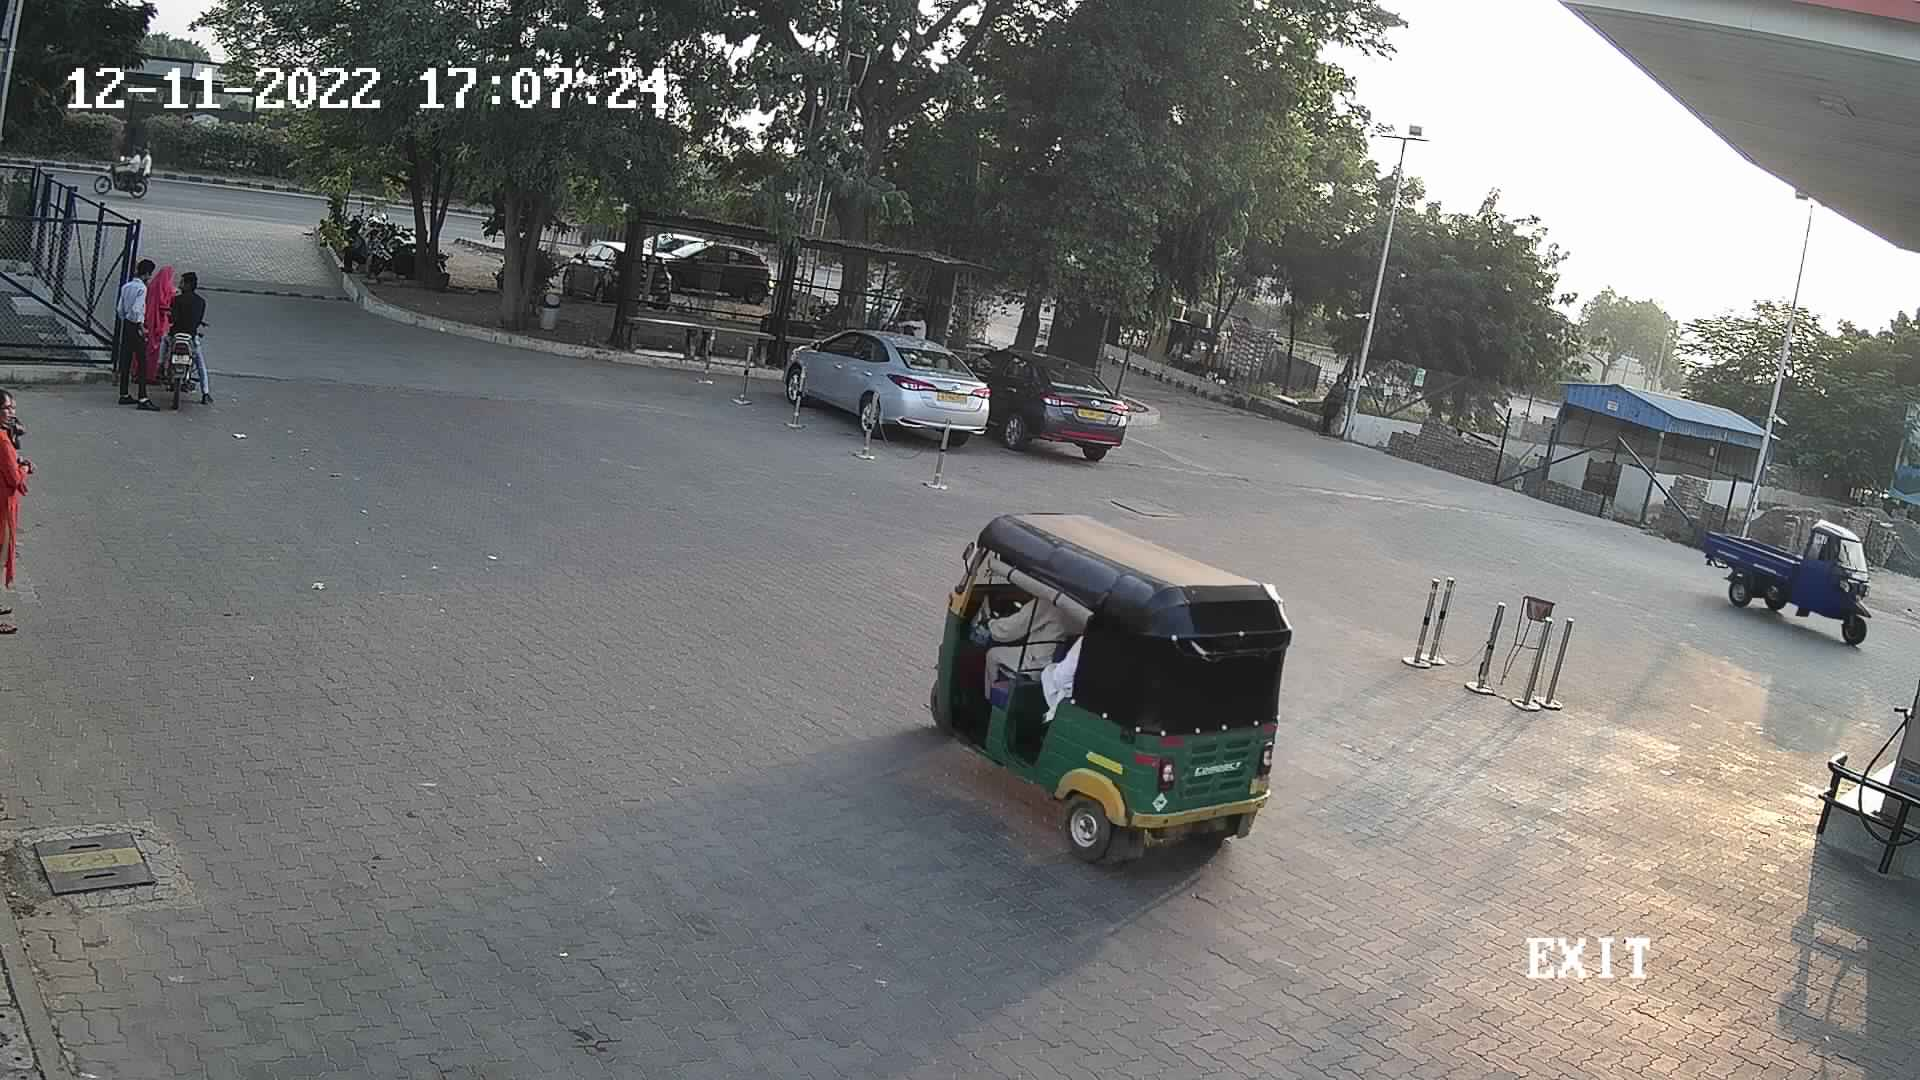Auto: (916, 505, 1311, 873), (1704, 492, 1880, 646)
Bike: (135, 262, 223, 419), (83, 128, 164, 203)
Car: (778, 310, 1011, 452), (953, 335, 1139, 467), (640, 237, 771, 307), (547, 233, 636, 314), (634, 225, 712, 255)
